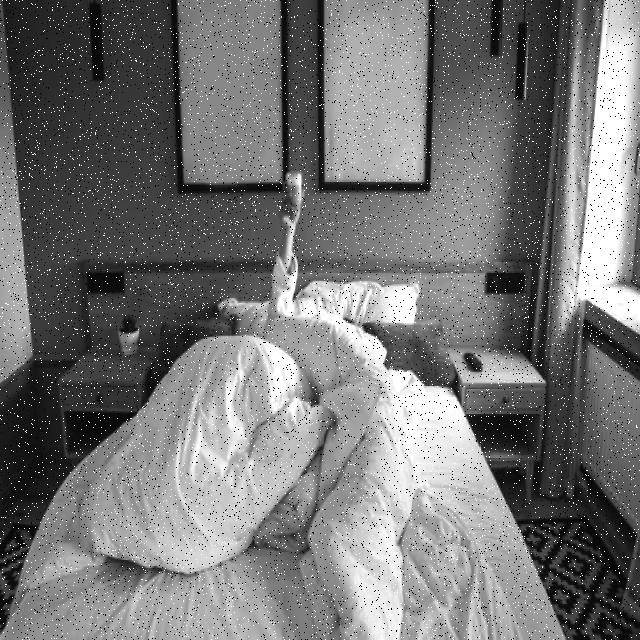bed: (0, 271, 565, 640)
